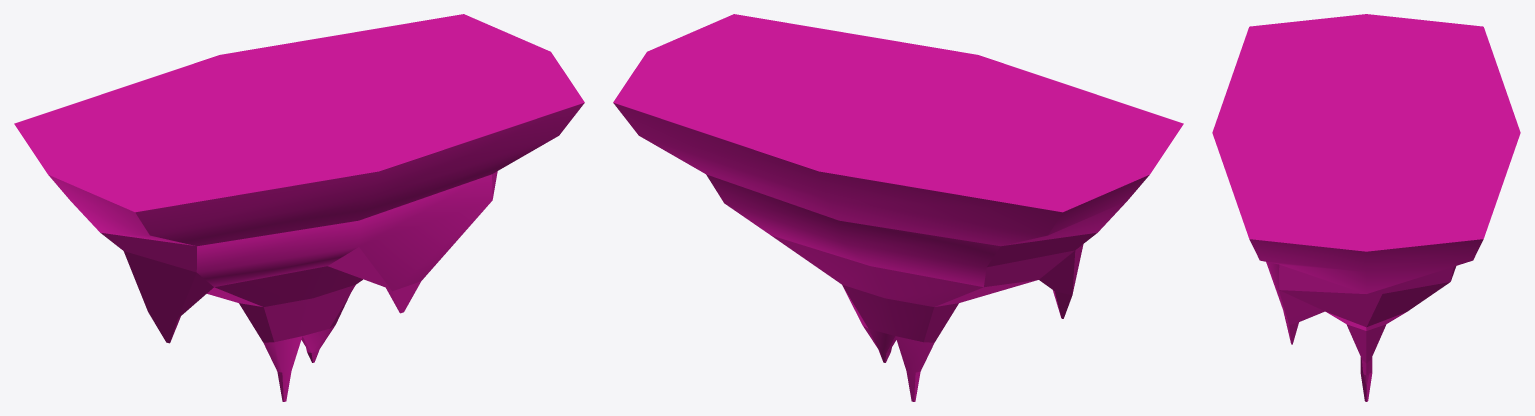
Rendered from CavePlatform1.fbx.
3 renders of one model, left to right at view 1: azimuth 30°, elevation 25°; view 2: azimuth 150°, elevation 25°; view 3: azimuth 270°, elevation 25°, orthographic. The views are drawn at different scales.
Visible parts, largest first — view 1: Cave_Platform_1; view 2: Cave_Platform_1; view 3: Cave_Platform_1.
Part boxes in pixels (x1,y1,x2,y2): Cave_Platform_1: [14, 14, 584, 401]; Cave_Platform_1: [613, 14, 1183, 401]; Cave_Platform_1: [1212, 14, 1520, 401].
Bounding box in the file's own units: 464 × 251 × 255.
